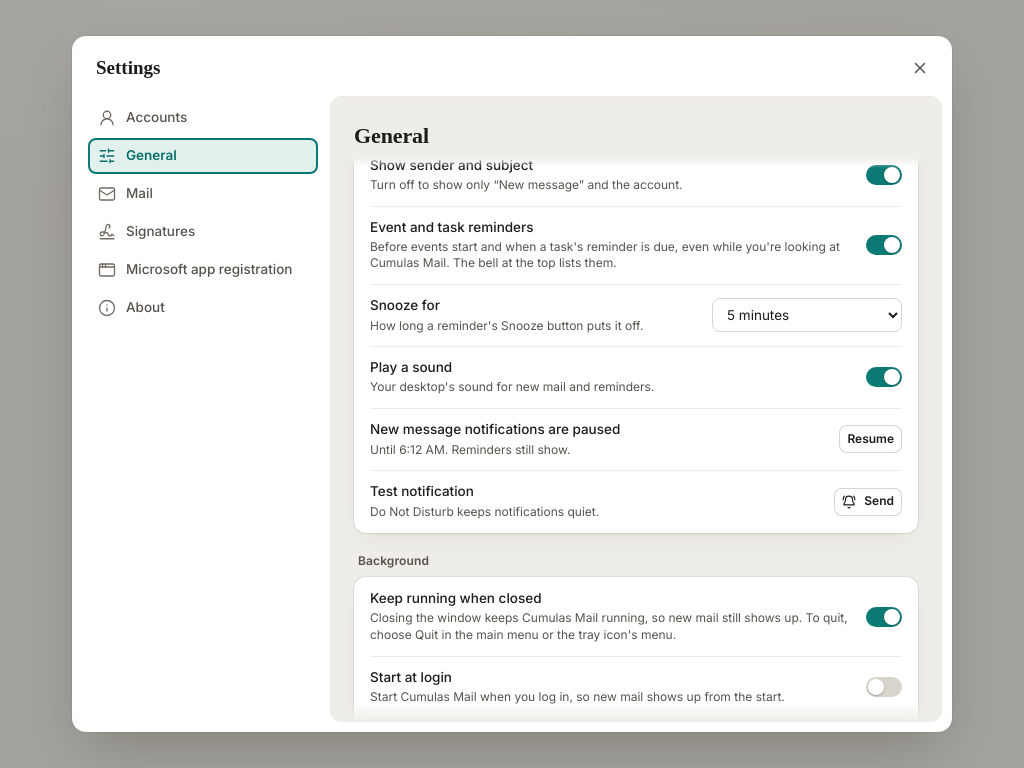
Test: Notifications › shows a pause from the tray and resumes it
(page scrolled)
Expected: the text "New message notifications are paused" is shown, [370,421,620,437]
Expected: the text "Until 6:12 AM. Reminders still show." is shown, [370,442,570,457]
Click the button "Resume": (871, 439) [839,425,902,453]
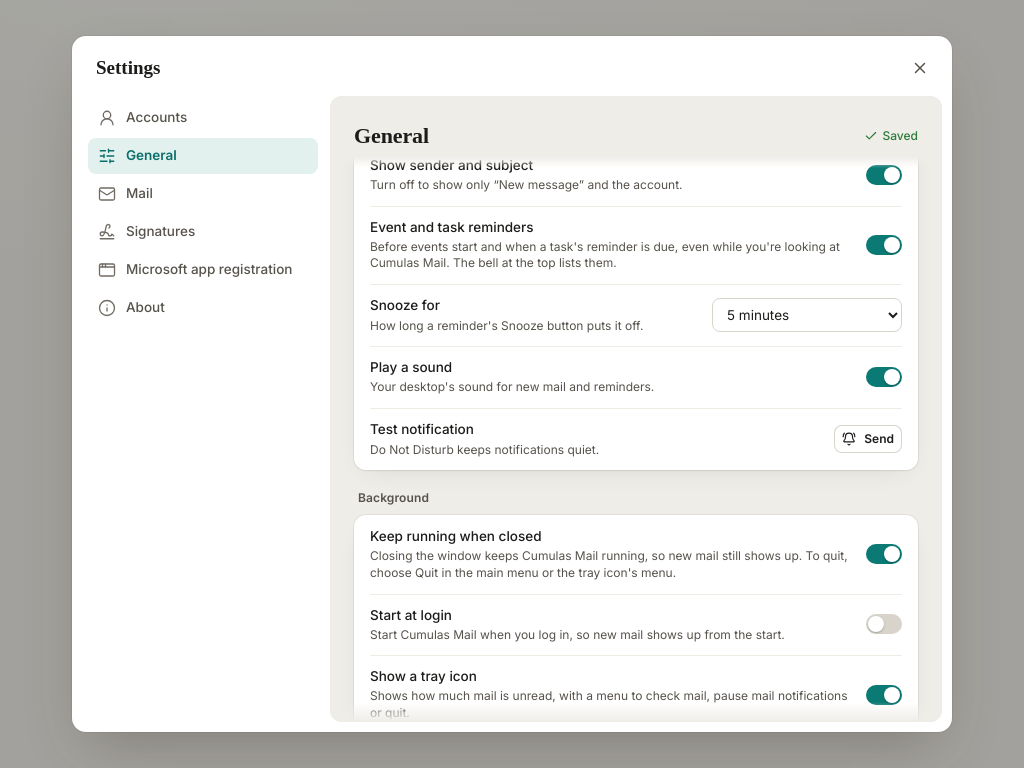
Expected: the text "New message notifications are paused" is gone
